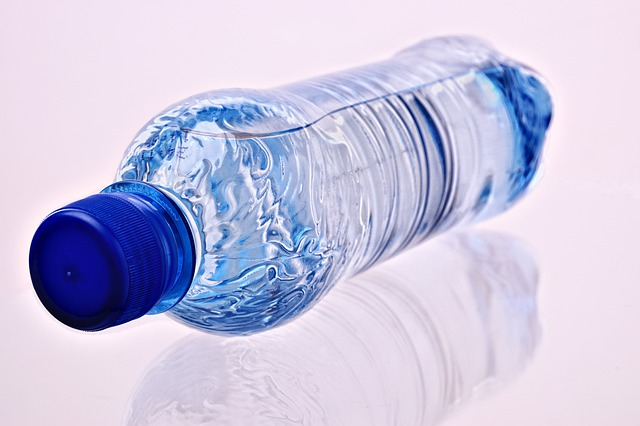plastic_bottle: (19, 21, 561, 344)
